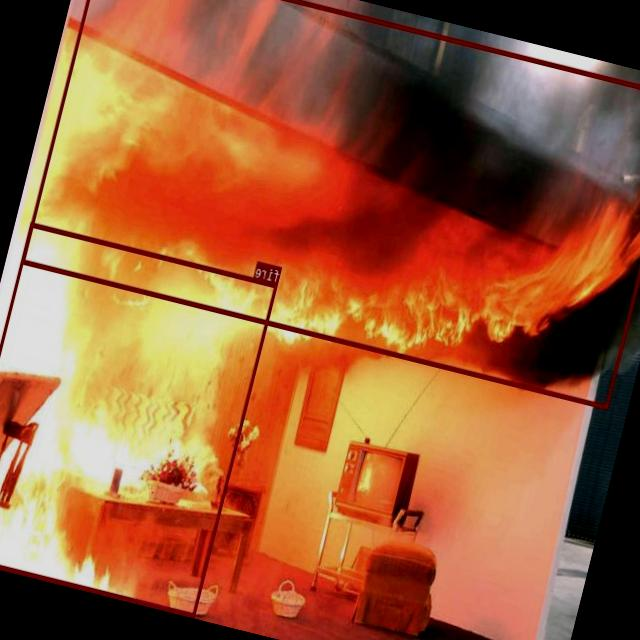fire: (21, 0, 640, 408), (0, 221, 278, 616)
